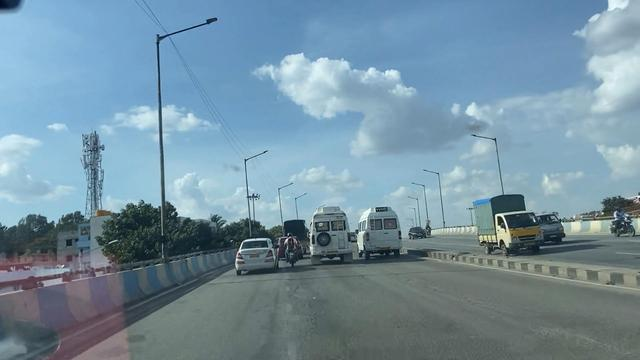HMV: (307, 201, 354, 265), (358, 203, 402, 263)
LMV: (231, 237, 280, 277), (281, 226, 299, 265)
